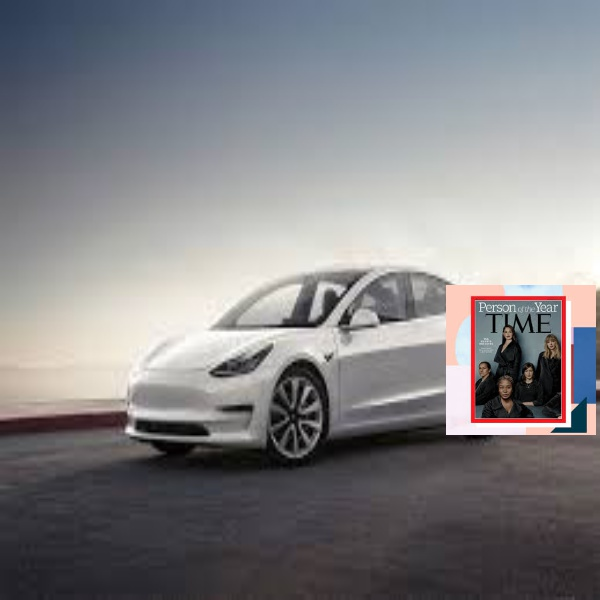time_cover: (470, 294, 568, 424)
